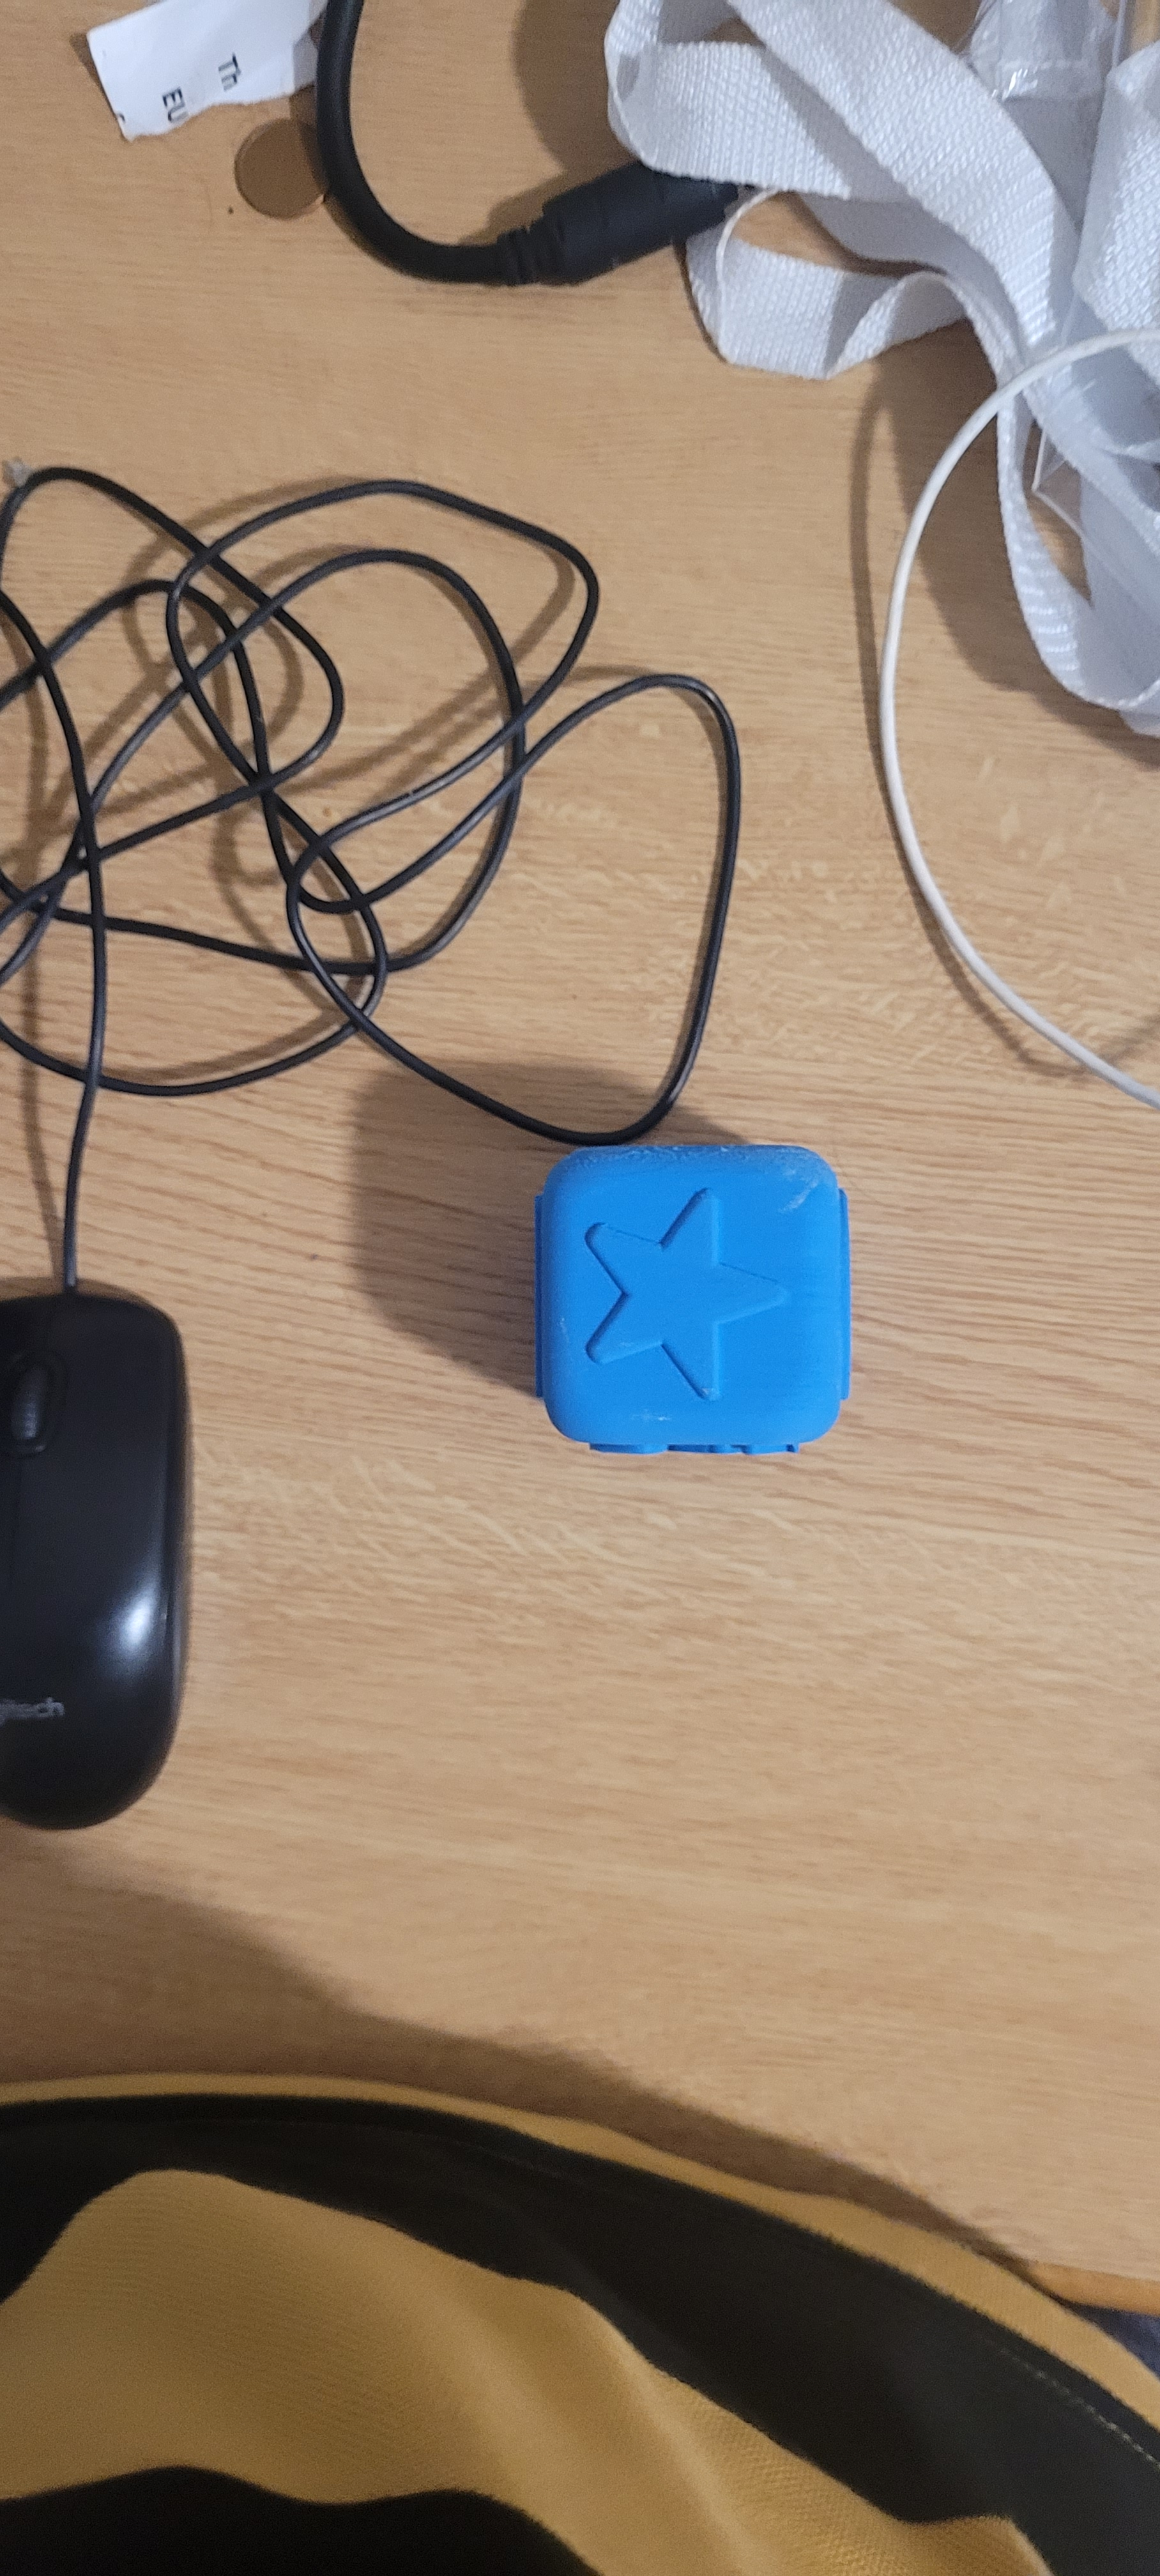Star: (555, 1170, 838, 1403)
